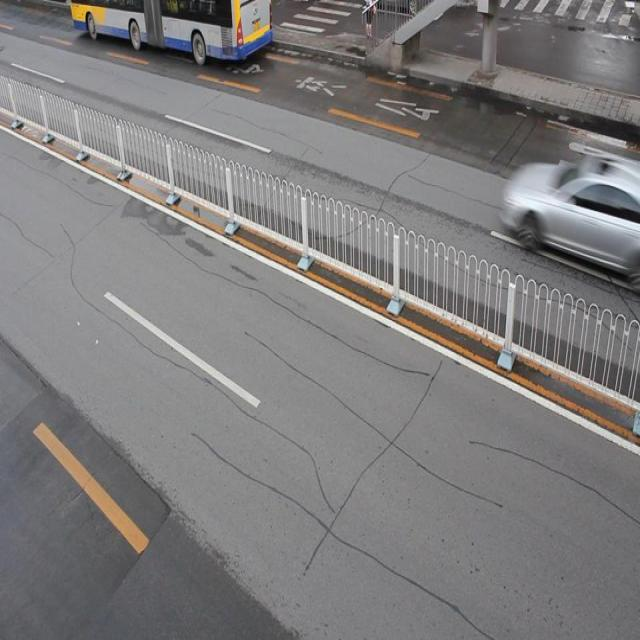car: (504, 156, 640, 277)
van: (71, 1, 272, 70)
